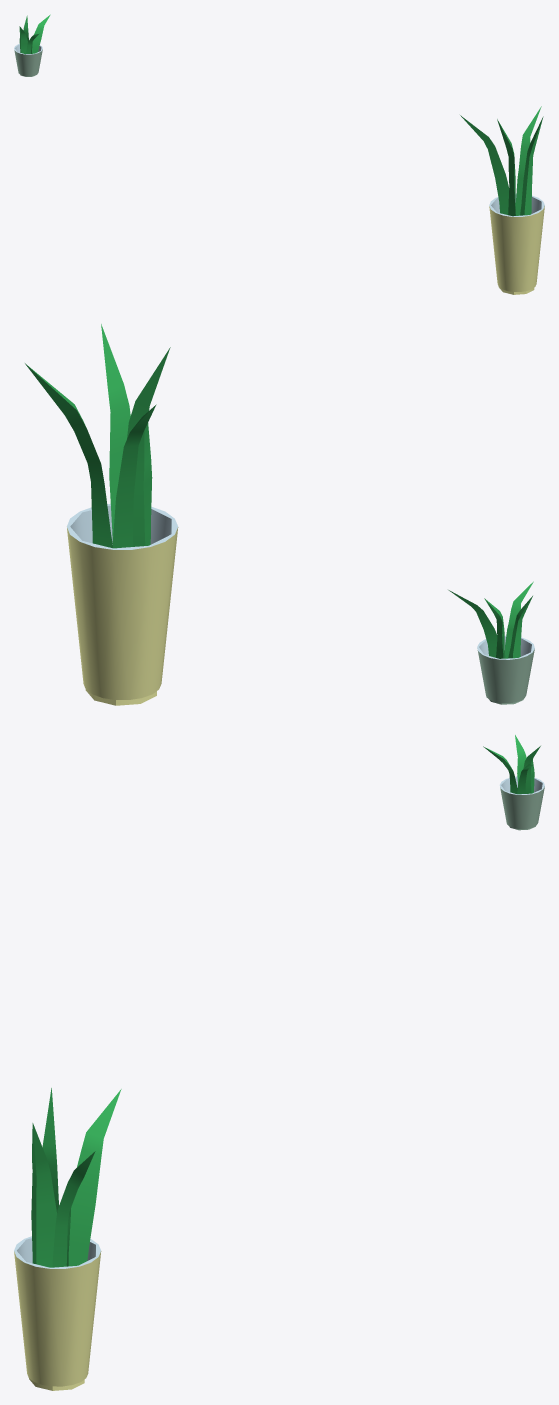
File: PLANT1.glb
The picture shows the model from 3 angles, top to bottom: view 1: azimuth 30°, elevation 25°; view 2: azimuth 150°, elevation 25°; view 3: azimuth 270°, elevation 25°; orthographic projection. The views are drawn at different scales.
Visible parts, largest first — view 1: PLANT1; view 2: PLANT1; view 3: PLANT1.
Part boxes in pixels (x1,y1,x2,y2): PLANT1: (14,14,544,294); PLANT1: (25,324,534,705); PLANT1: (14,735,544,1390).
Bounding box in the file's own units: 7.23 × 4.28 × 5.45.
